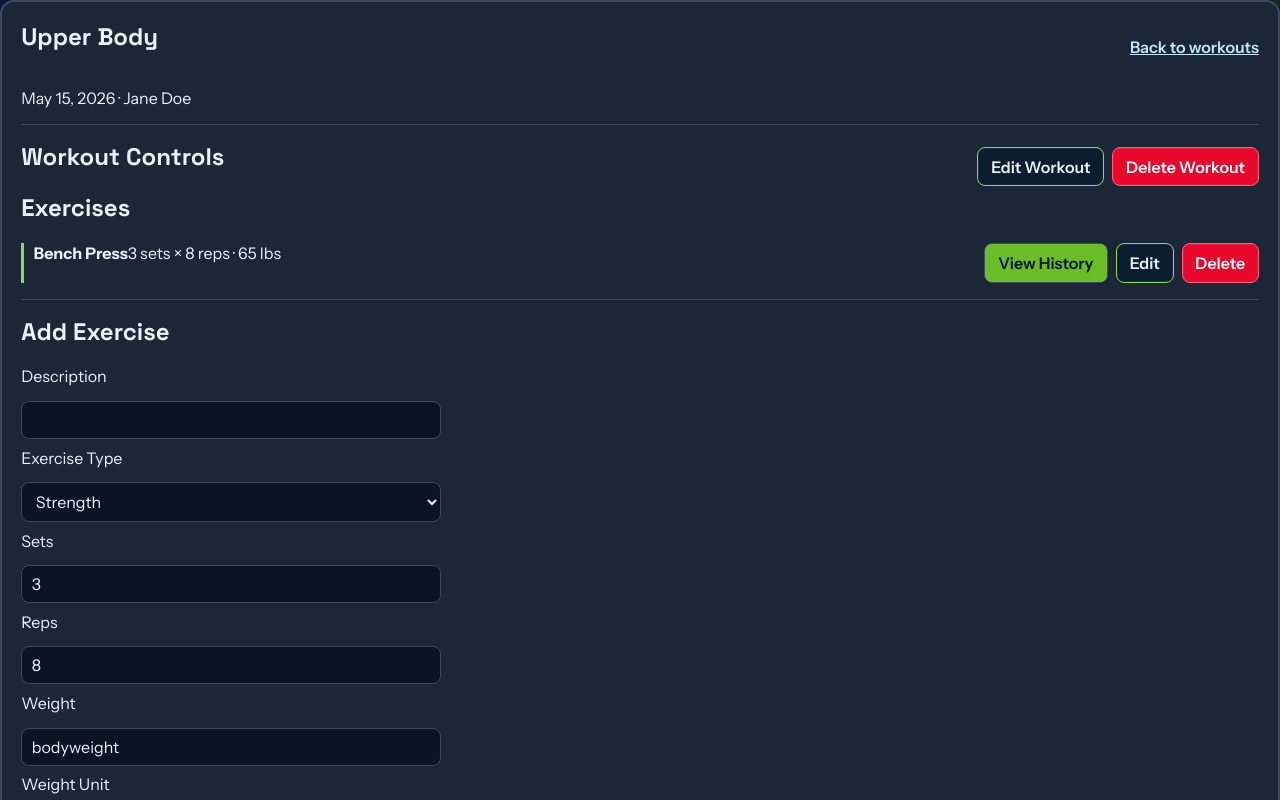
Scenario: WorkoutDetailPage › resets the exercise form when Cancel Edit is clicked
Expected: the heading "Upper Body" is shown, [21,21,158,52]
Click the button "Edit" at (1145, 263), box [1116,243,1174,282]
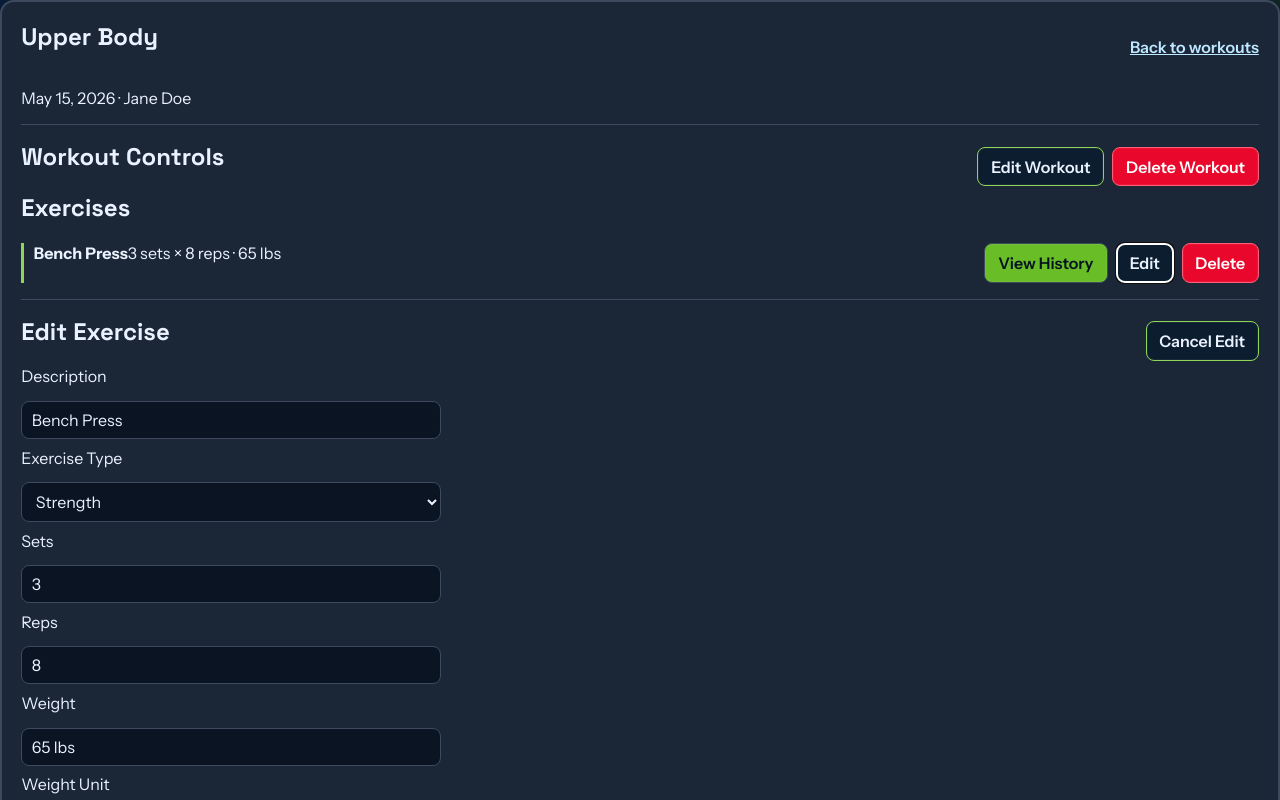
Result: the field labelled "Description" holds "Bench Press" at [21,401,441,439]
Click the button "Cancel Edit" at (1202, 341), box [1146,321,1259,361]
(page scrolled)
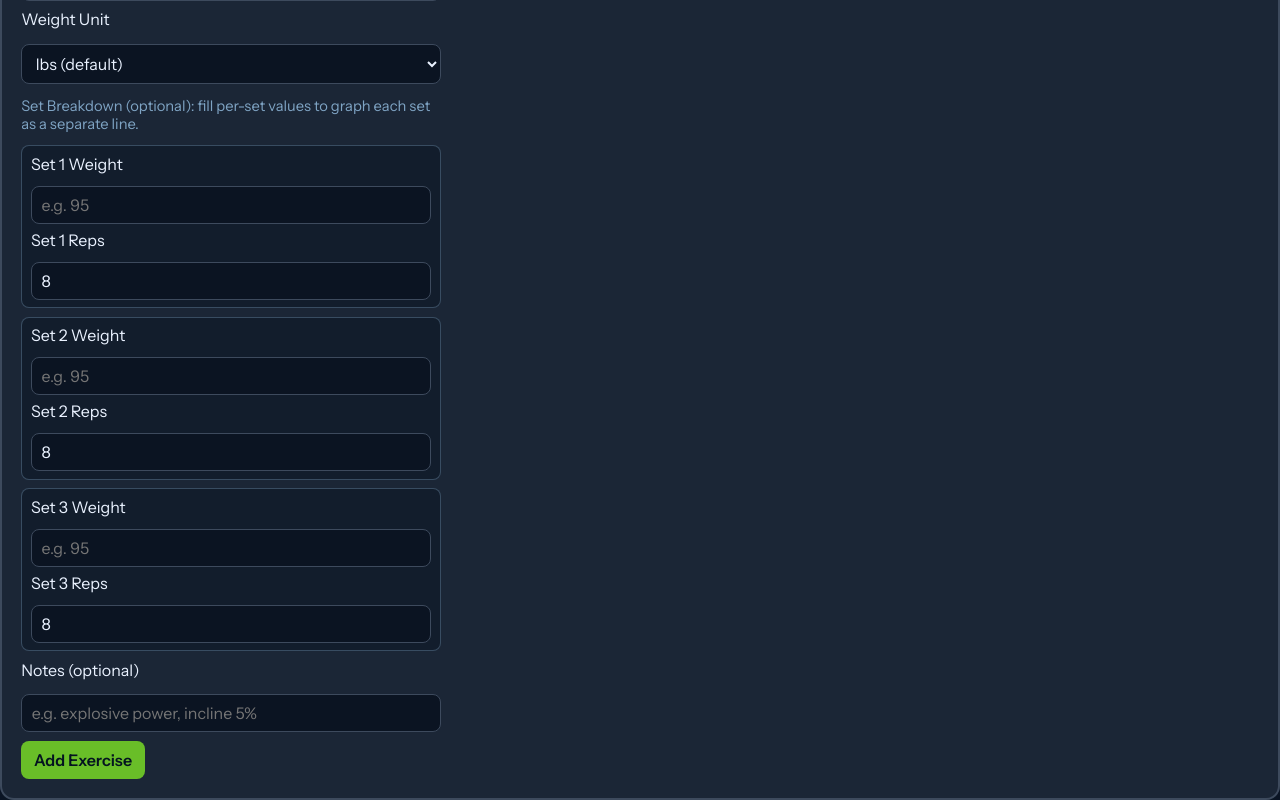
Result: the button "Add Exercise" is shown at [21,741,145,779]
